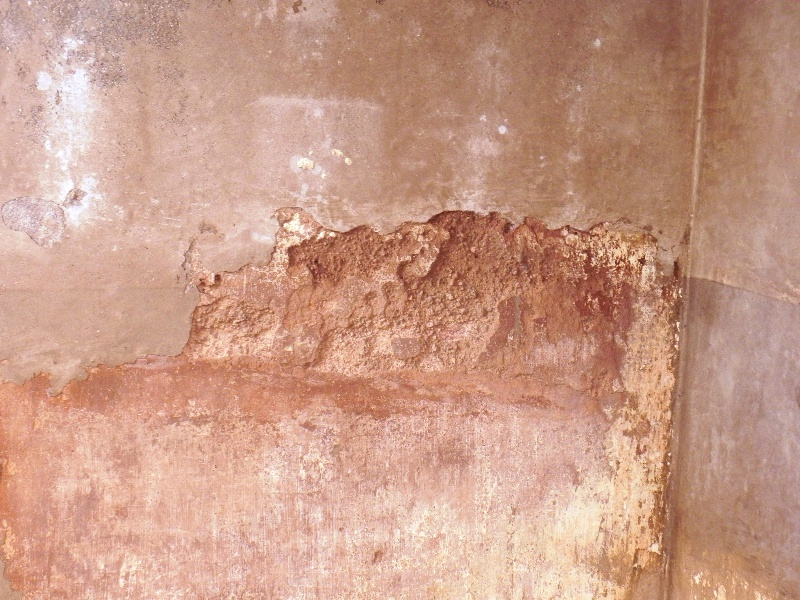Spalling: (187, 205, 669, 386)
